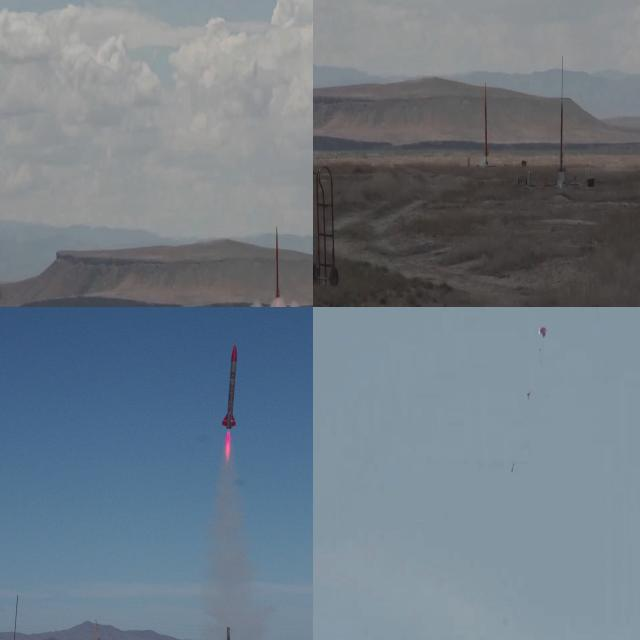Rocket: (222, 344, 238, 430), (484, 90, 489, 157), (559, 101, 564, 164), (276, 225, 280, 301), (511, 461, 515, 473)
